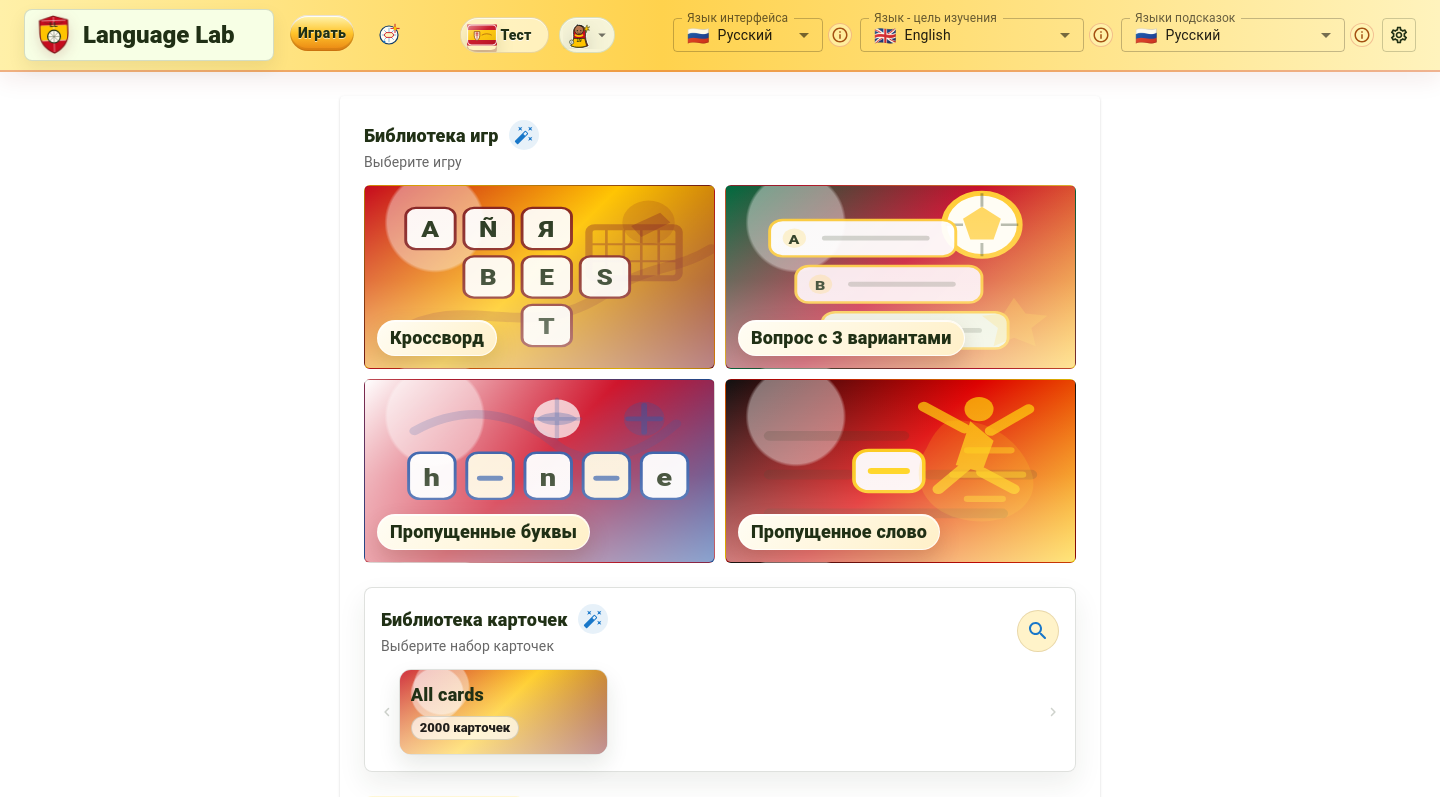
Test: large local datasets › keeps the game start button usable for all cards
The width and height of the screenshot is (1440, 797).
What coordinates should you click on to do the following:
click the button with aria-label "Набор карточек: All cards"
I would click on:
 (503, 712)
Its box is [399,669,608,755].
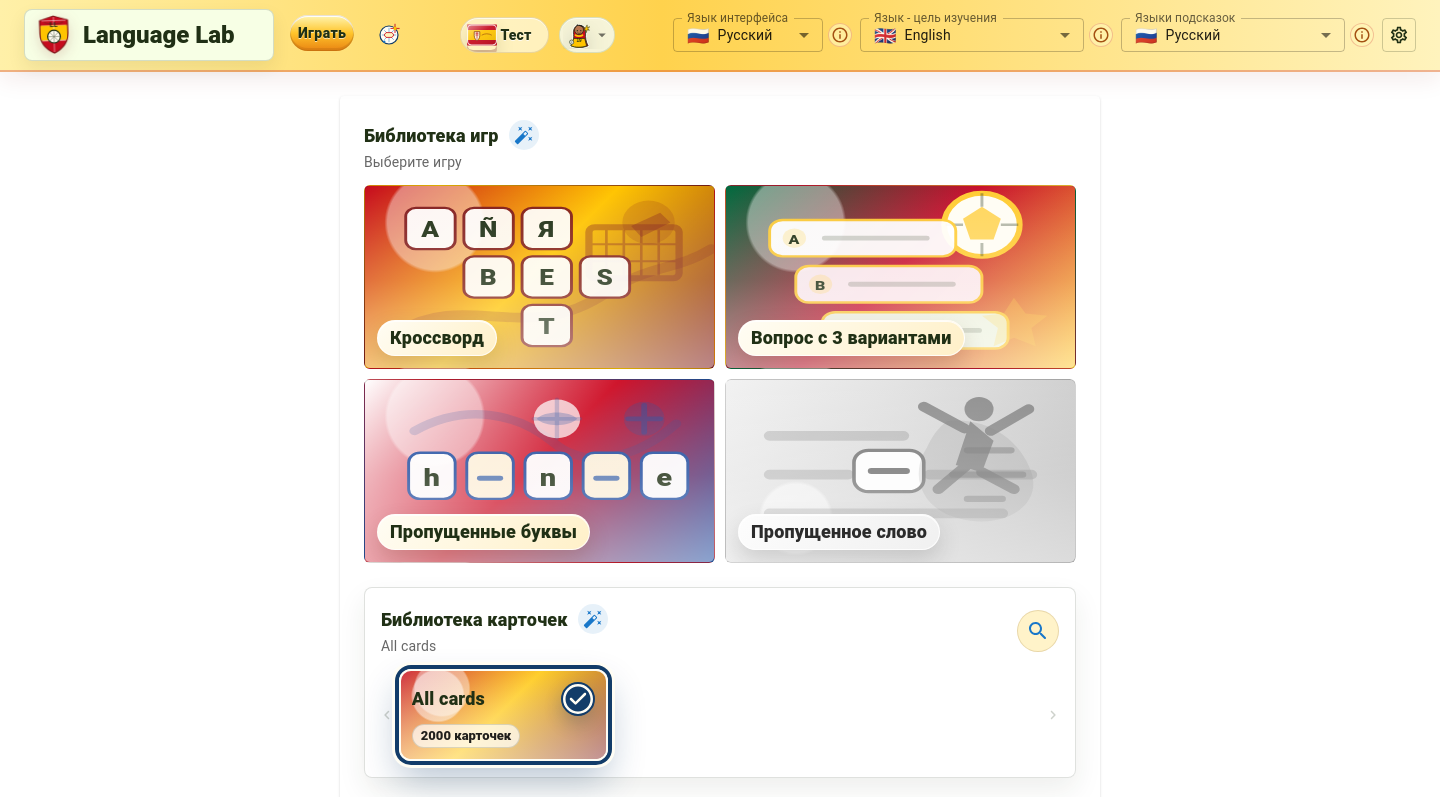
What coordinates should you click on to do the following:
click the button "h n e Пропущенные буквы"
I would click on:
 (540, 471)
Its box is [364,379,715,563].
(page scrolled)
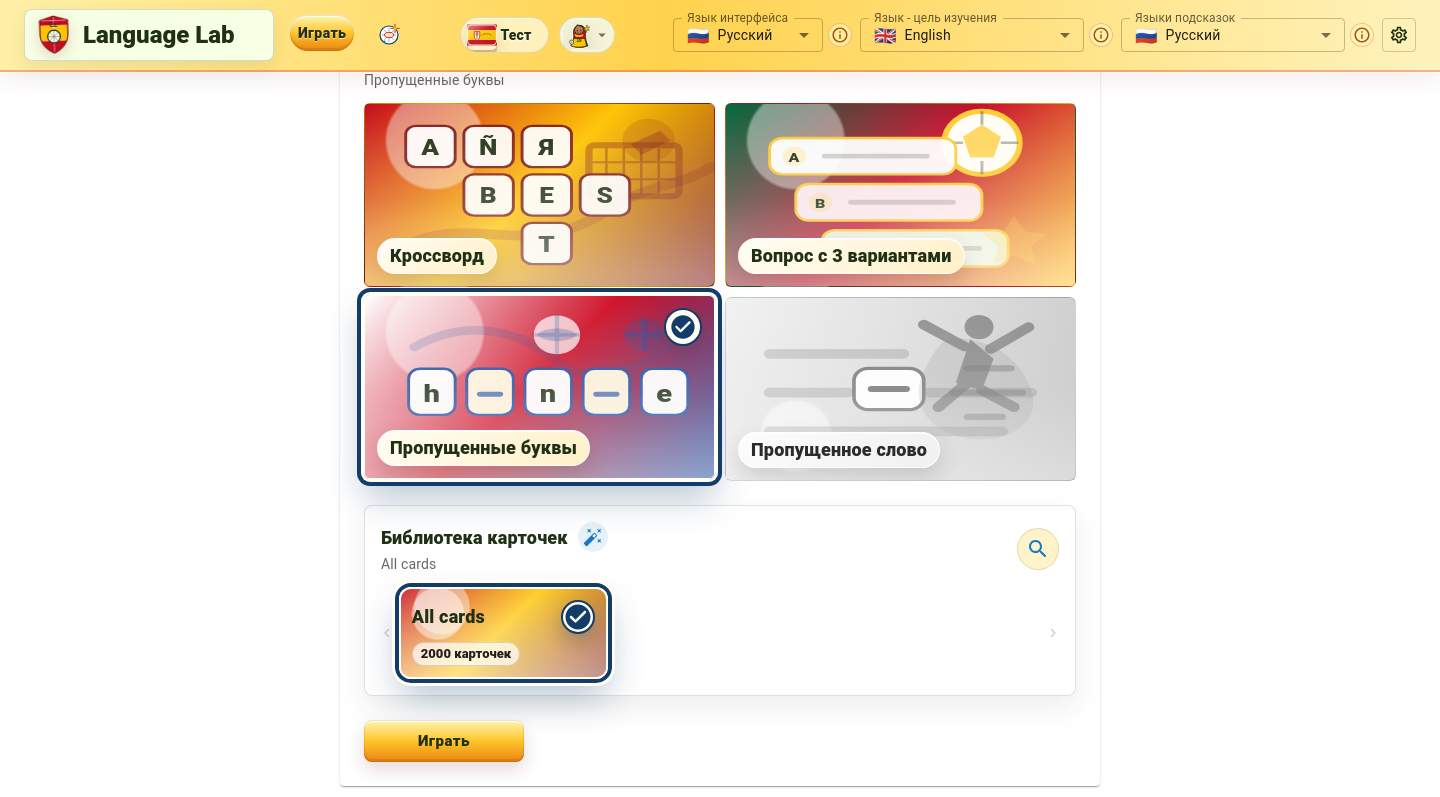
Now the button "Играть" is enabled, box [364,720,524,762]
